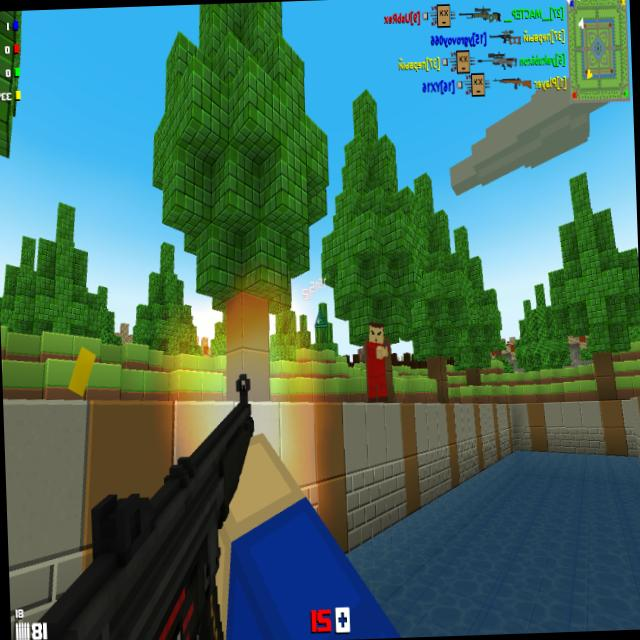enemy: (365, 322, 390, 403), (506, 340, 509, 346)
